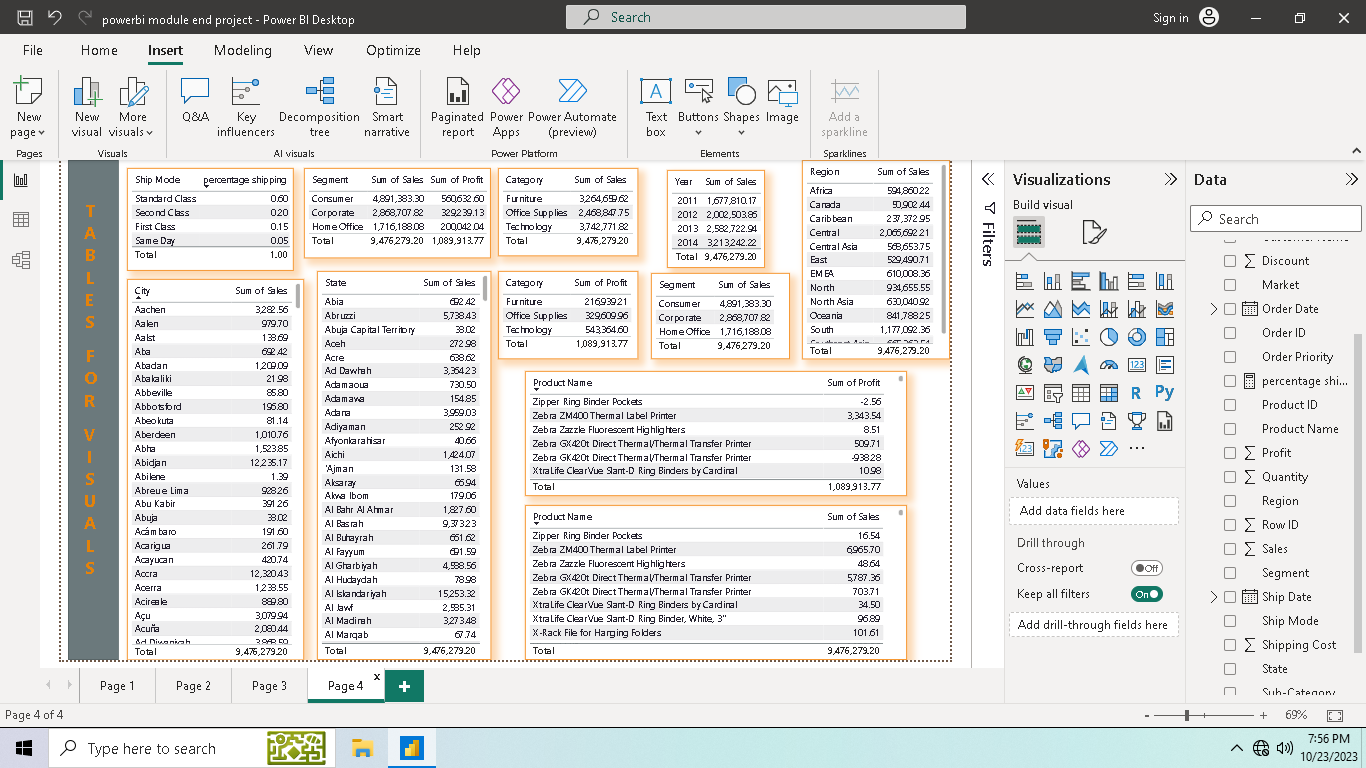

The page's visual inventory and layout, read from the dashboard file:
{"tool":"powerbi","page":{"name":"Page 4","canvas":[1280,720],"ordinal":3},"visuals":[{"type":"shape","box":[10.1,0,73.4,720],"z":0},{"type":"textbox","box":[0,0,83.5,720],"z":1},{"type":"tableEx","fields":{"Values":["Orders.Ship Mode","Orders.percentage shipping"]},"box":[95,11.5,240.5,148.3],"z":2},{"type":"tableEx","fields":{"Values":["Orders.Segment","Sum(Orders.Sales)","Sum(Orders.Profit)"]},"box":[349.9,11.5,269.3,129.6],"z":3},{"type":"tableEx","fields":{"Values":["Orders.Category","Sum(Orders.Sales)"]},"box":[629.3,11.5,201.6,126.7],"z":4},{"type":"tableEx","fields":{"Values":["Orders.Region","Sum(Orders.Sales)"]},"box":[1067,0,213.1,286.6],"z":5},{"type":"tableEx","fields":{"Values":["Orders.Category","Sum(Orders.Profit)"]},"box":[629.3,159.8,201.6,126.7],"z":6},{"type":"tableEx","fields":{"Values":["Orders.City","Sum(Orders.Sales)"]},"box":[95,171.4,254.9,548.6],"z":7},{"type":"tableEx","fields":{"Values":["Orders.State","Sum(Orders.Sales)"]},"box":[368.6,159.8,250.6,560.2],"z":8},{"type":"tableEx","fields":{"Values":["Orders.Product Name","Sum(Orders.Sales)"]},"box":[668.2,496.8,550.1,223.2],"z":9},{"type":"tableEx","fields":{"Values":["Orders.Order Date.Variation.Date Hierarchy.Year","Sum(Orders.Sales)"]},"box":[872.6,14.4,141.1,141.1],"z":10},{"type":"tableEx","fields":{"Values":["Orders.Product Name","Sum(Orders.Profit)"]},"box":[668.2,303.8,550.1,180],"z":11},{"type":"tableEx","fields":{"Values":["Orders.Segment","Sum(Orders.Sales)"]},"box":[849.6,162.7,200.2,123.8],"z":12}]}

Visuals, with their boxes on the page's 1280x720 design canvas (x1, y1, x2, y2). These are canvas units, not pixel positions in the 1366x768 screenshot, which may show the page scaled, cropped or inside an application window:
shape: <bbox>10, 0, 84, 720</bbox>
textbox: <bbox>0, 0, 84, 720</bbox>
tableEx - Orders.Ship Mode x Orders.percentage shipping: <bbox>95, 12, 336, 160</bbox>
tableEx - Orders.Segment x Sum(Orders.Sales): <bbox>350, 12, 619, 141</bbox>
tableEx - Orders.Category x Sum(Orders.Sales): <bbox>629, 12, 831, 138</bbox>
tableEx - Orders.Region x Sum(Orders.Sales): <bbox>1067, 0, 1280, 287</bbox>
tableEx - Orders.Category x Sum(Orders.Profit): <bbox>629, 160, 831, 286</bbox>
tableEx - Orders.City x Sum(Orders.Sales): <bbox>95, 171, 350, 720</bbox>
tableEx - Orders.State x Sum(Orders.Sales): <bbox>369, 160, 619, 720</bbox>
tableEx - Orders.Product Name x Sum(Orders.Sales): <bbox>668, 497, 1218, 720</bbox>
tableEx - Orders.Order Date.Variation.Date Hierarchy.Year x Sum(Orders.Sales): <bbox>873, 14, 1014, 156</bbox>
tableEx - Orders.Product Name x Sum(Orders.Profit): <bbox>668, 304, 1218, 484</bbox>
tableEx - Orders.Segment x Sum(Orders.Sales): <bbox>850, 163, 1050, 286</bbox>
